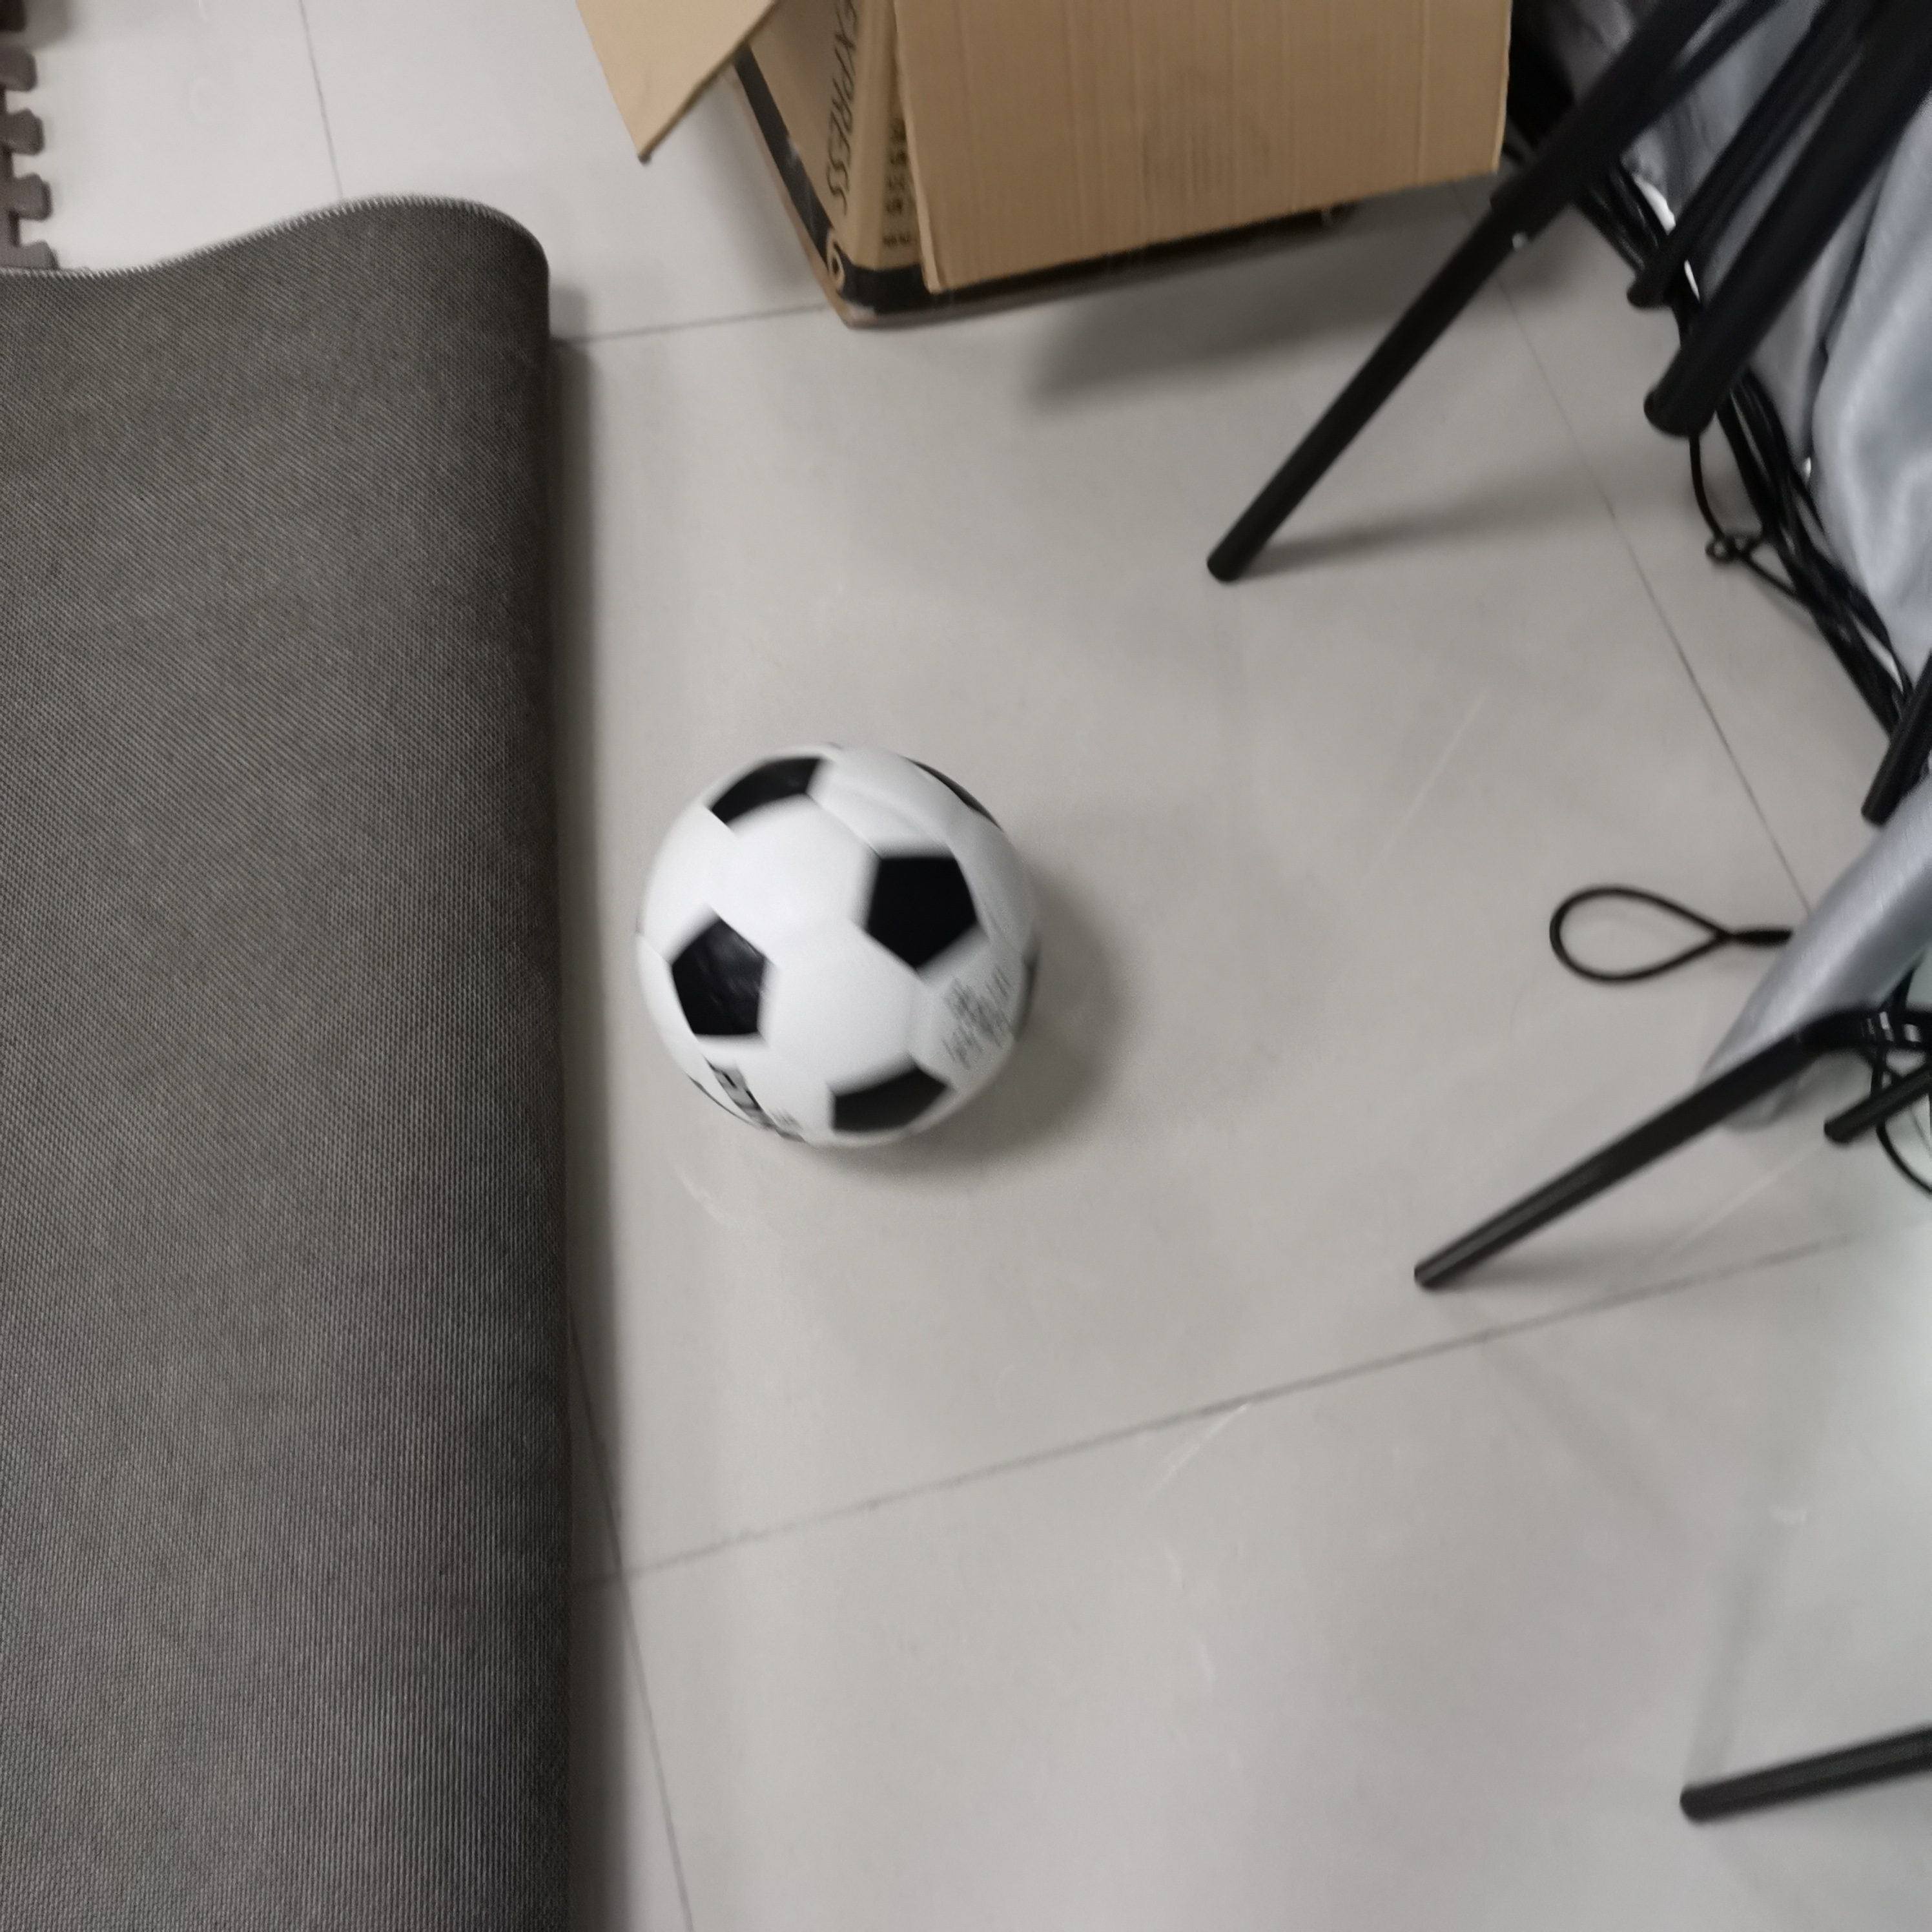football: (633, 740, 1046, 1154)
